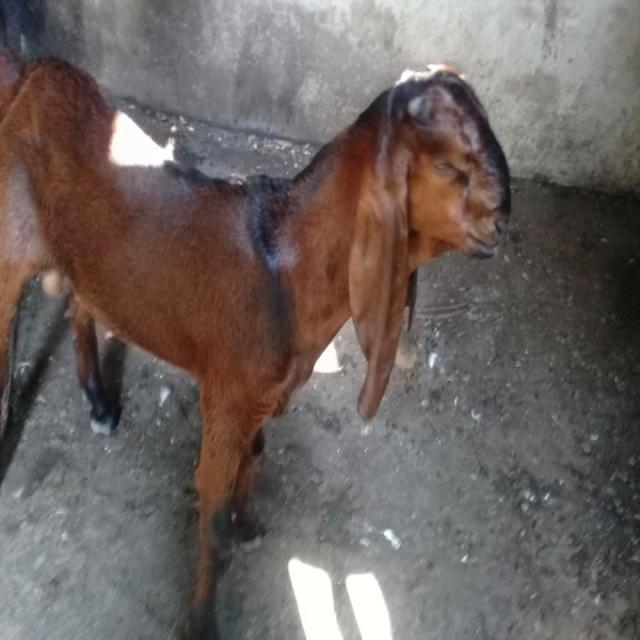Goat: (1, 47, 513, 638)
